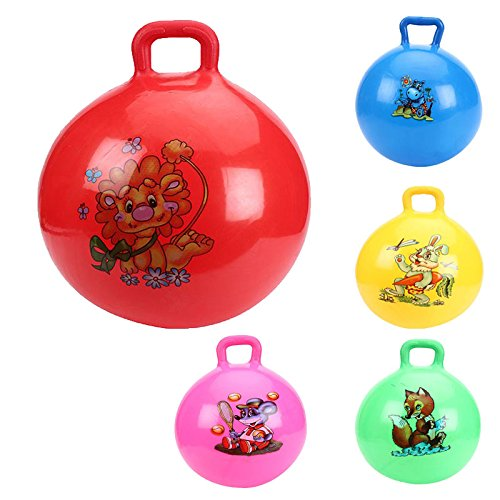blue ball: (354, 45, 483, 168)
red ball: (36, 72, 312, 331)
